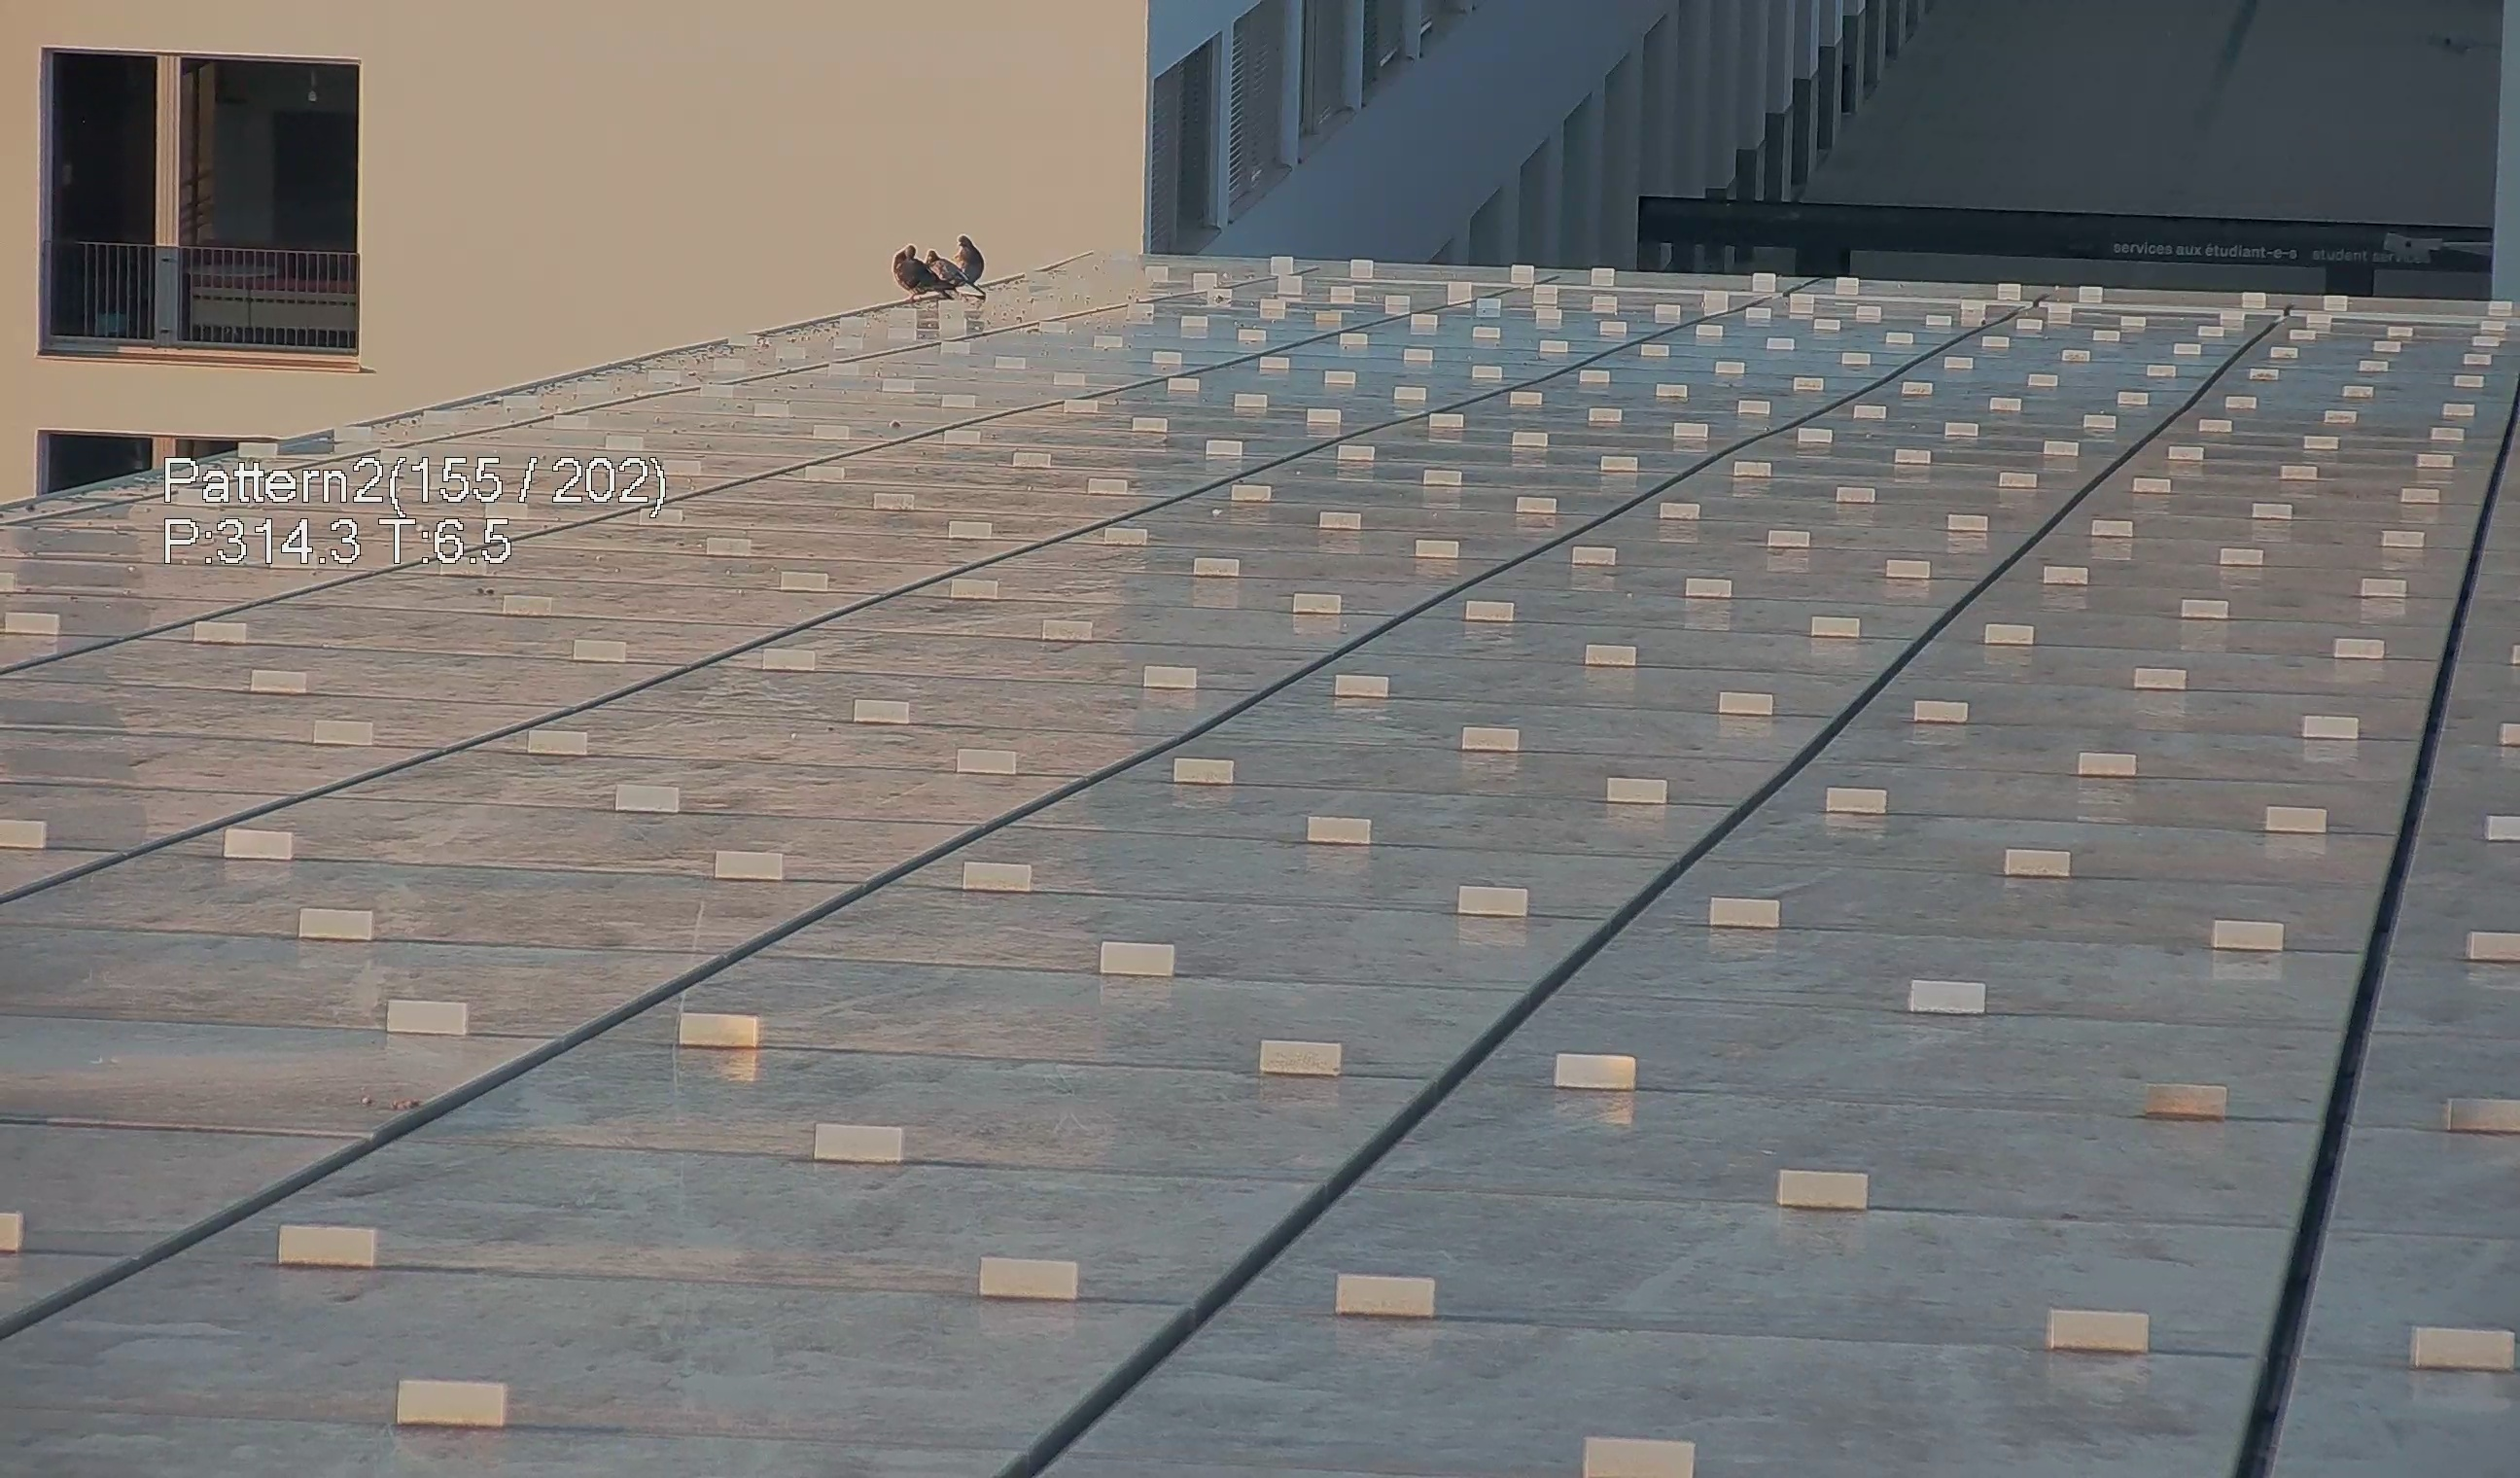Pigeon: (885, 243, 955, 304), (921, 246, 988, 297), (943, 234, 987, 285)
